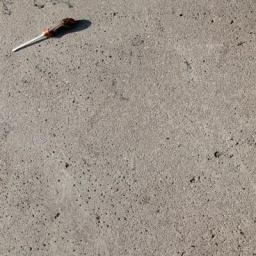FOD: (9, 18, 93, 55)
